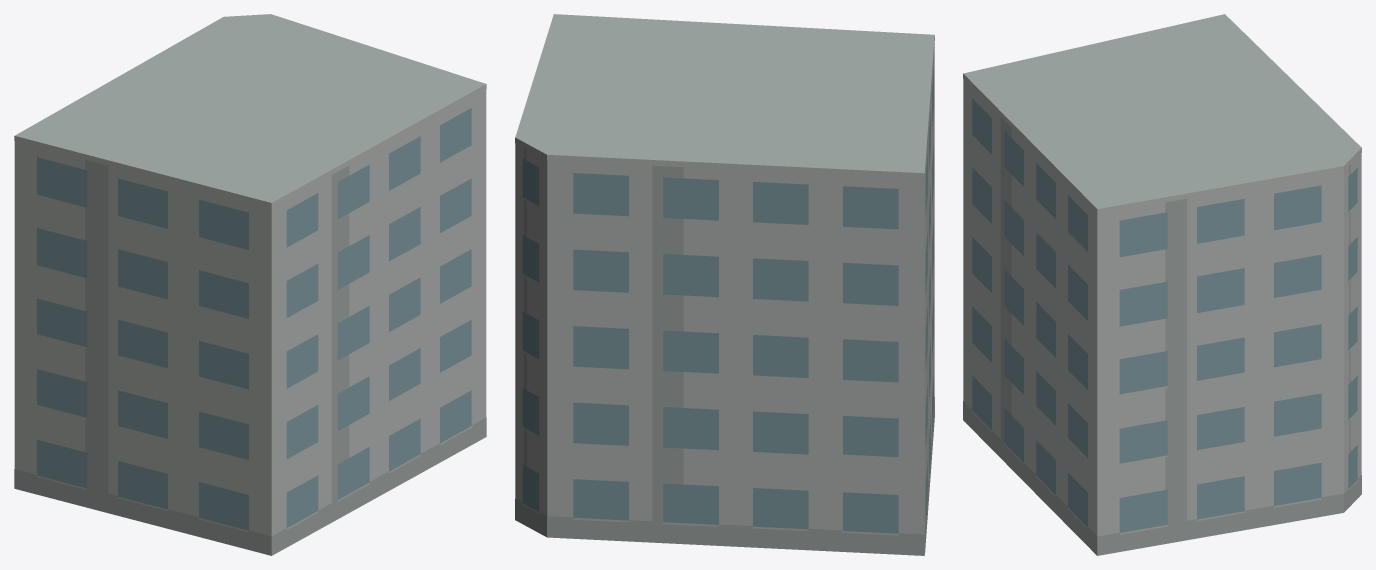
The model's file is survey-upis-32861962.glb.
3 views of the same model, side by side, from view 1: azimuth 30°, elevation 25°; view 2: azimuth 150°, elevation 25°; view 3: azimuth 270°, elevation 25° (orthographic). The views are drawn at different scales.
Parts seen in each view (by area): view 1: survey-upis-32861962.tmp; view 2: survey-upis-32861962.tmp; view 3: survey-upis-32861962.tmp.
Part boxes in pixels (x1,y1,x2,y2): survey-upis-32861962.tmp: [14, 14, 486, 555]; survey-upis-32861962.tmp: [515, 14, 934, 555]; survey-upis-32861962.tmp: [963, 14, 1361, 555].
Size of the model in its own units: 19.44 by 16.1 by 16.78.
